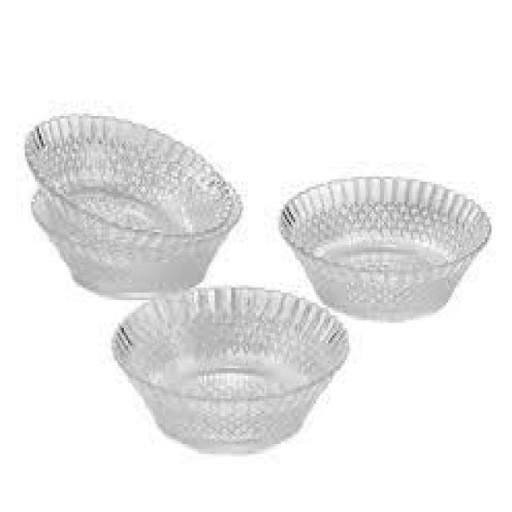glass: (23, 111, 243, 297), (112, 282, 350, 452), (279, 174, 490, 320)
